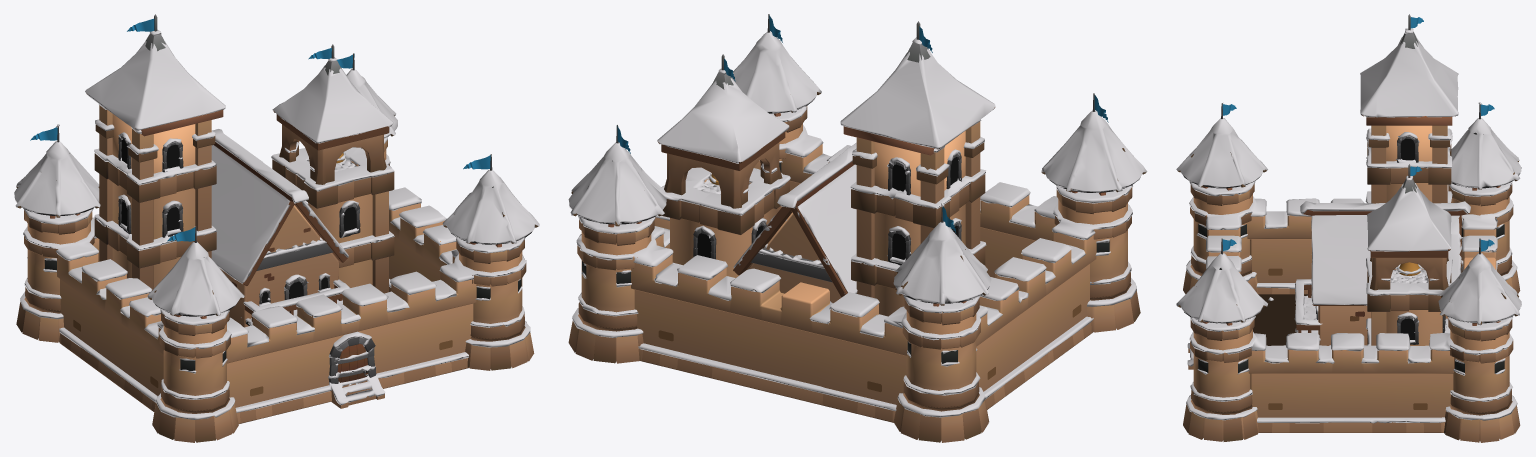
File: MainBigCastleSnowy_2.fbx
The picture shows the model from 3 angles, left to right: view 1: azimuth 30°, elevation 25°; view 2: azimuth 150°, elevation 25°; view 3: azimuth 270°, elevation 25°; orthographic projection. The views are drawn at different scales.
Visible parts, largest first — view 1: MainBigCastleSnowy_2; view 2: MainBigCastleSnowy_2; view 3: MainBigCastleSnowy_2.
Part boxes in pixels (box(x1,y1,x2,y2)): MainBigCastleSnowy_2: box(14, 14, 539, 442); MainBigCastleSnowy_2: box(568, 14, 1147, 442); MainBigCastleSnowy_2: box(1176, 14, 1521, 442).
Size of the model in its own units: 1420 by 1163 by 1194.
